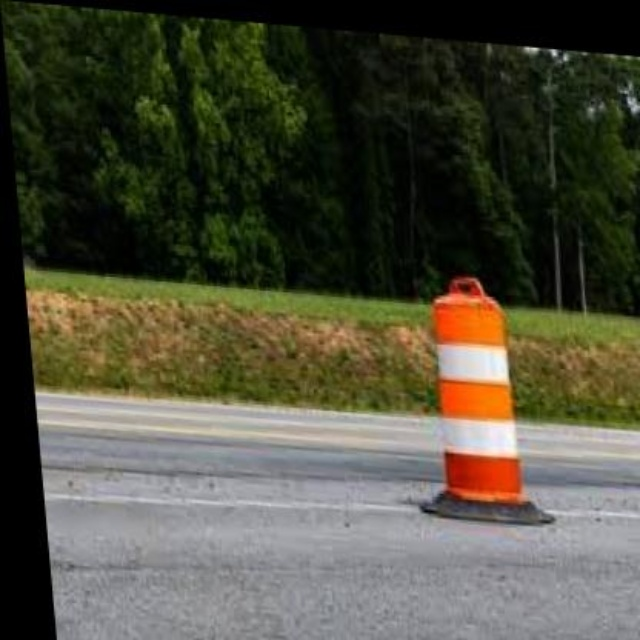obstacle: (417, 266, 524, 510)
